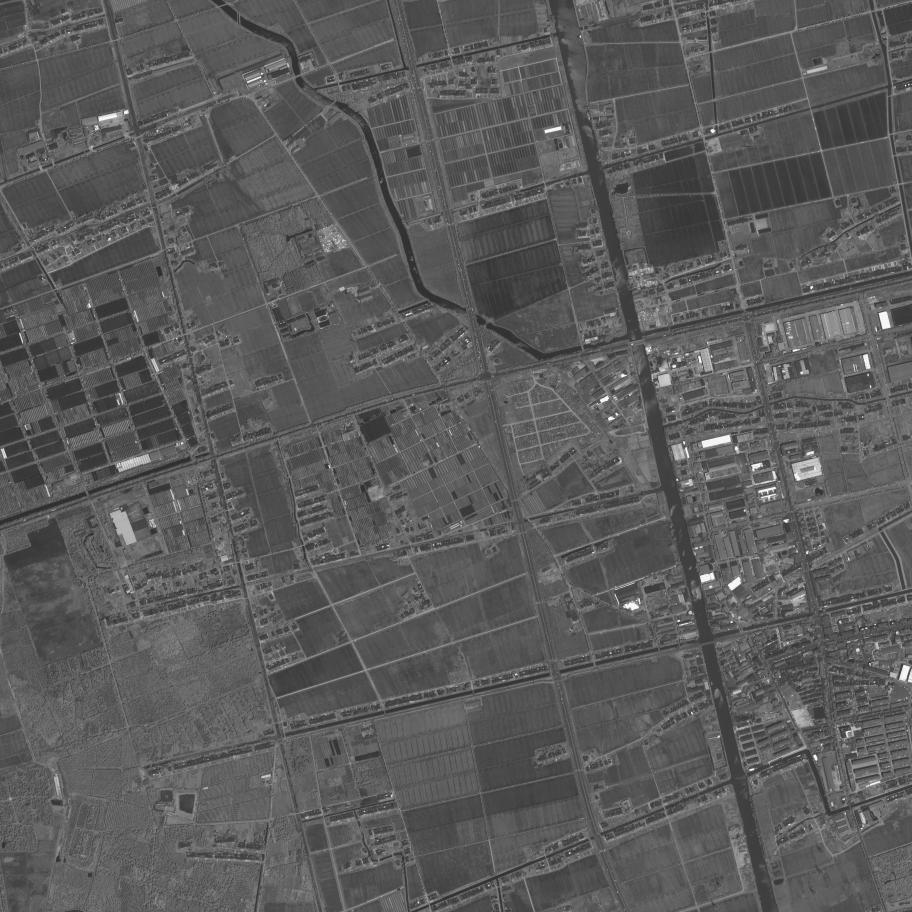ship: (625, 280, 631, 291), (579, 34, 584, 46), (577, 34, 582, 45), (587, 111, 591, 123), (596, 153, 600, 162)
